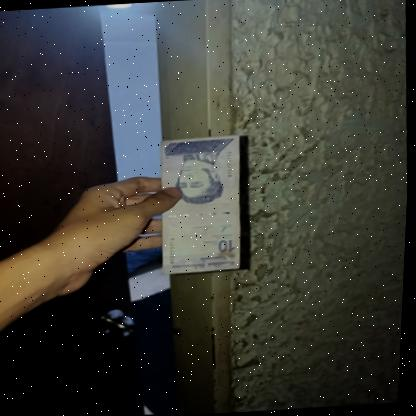ten-front-vef: (154, 134, 249, 275)
